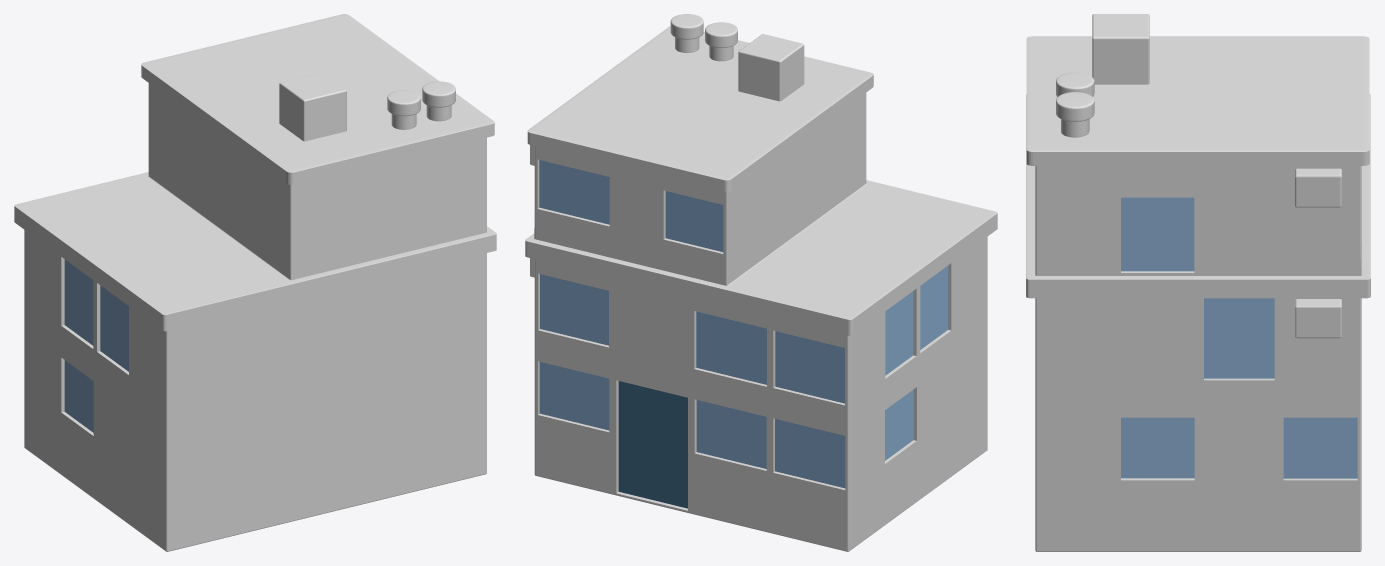
File: building.fbx
The picture shows the model from 3 angles, left to right: view 1: azimuth 30°, elevation 25°; view 2: azimuth 150°, elevation 25°; view 3: azimuth 270°, elevation 25°; orthographic projection. The views are drawn at different scales.
Visible parts, largest first — view 1: Cube.006, Cube.011, Cube.010, Cube.007, Cylinder.001, Cylinder.003; view 2: Cube.006, Cube.011, Cube.010, Cube.007, Cylinder.001, Cylinder.003; view 3: Cube.006, Cube.011, Cube.010, Cube.007, Cube.008, Cube.009, Cylinder.001, Cylinder.003, Cylinder.
Boxes of the visible parts, left/top/right/bottom form: Cube.006: left=24, top=83, right=486, bottom=551; Cube.011: left=141, top=14, right=494, bottom=184; Cube.010: left=14, top=172, right=496, bottom=331; Cube.007: left=279, top=72, right=346, bottom=141; Cylinder.001: left=422, top=81, right=455, bottom=107; Cylinder.003: left=387, top=90, right=420, bottom=116; Cube.006: left=534, top=93, right=987, bottom=551; Cube.011: left=527, top=26, right=873, bottom=192; Cube.010: left=525, top=180, right=997, bottom=335; Cube.007: left=738, top=34, right=804, bottom=101; Cylinder.001: left=670, top=14, right=703, bottom=39; Cylinder.003: left=705, top=22, right=737, bottom=47; Cube.006: left=1035, top=166, right=1361, bottom=551; Cube.011: left=1026, top=36, right=1369, bottom=165; Cube.010: left=1026, top=94, right=1370, bottom=298; Cube.007: left=1092, top=14, right=1149, bottom=84; Cube.008: left=1295, top=168, right=1341, bottom=207; Cube.009: left=1295, top=299, right=1341, bottom=338; Cylinder.001: left=1056, top=92, right=1094, bottom=121; Cylinder.003: left=1056, top=72, right=1094, bottom=96; Cylinder: left=1061, top=119, right=1089, bottom=137.
Size of the model in its own units: 108 by 119 by 82.67.
